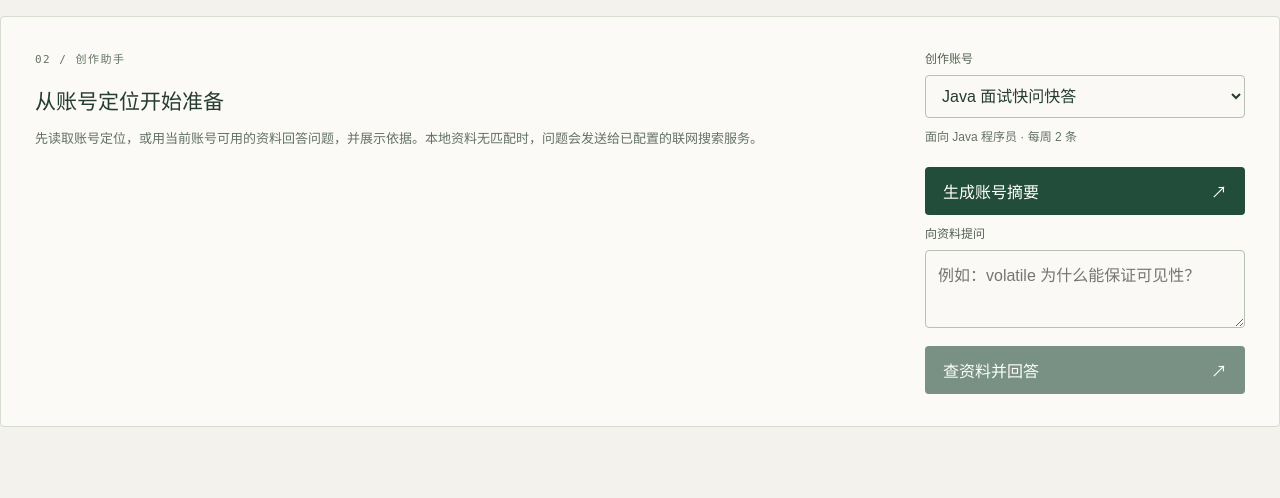
Test: creator chat › uses only the returned account and displays a model summary
Click the button "生成账号摘要 ↗". click: (991, 192)
box: [925, 167, 1245, 215]
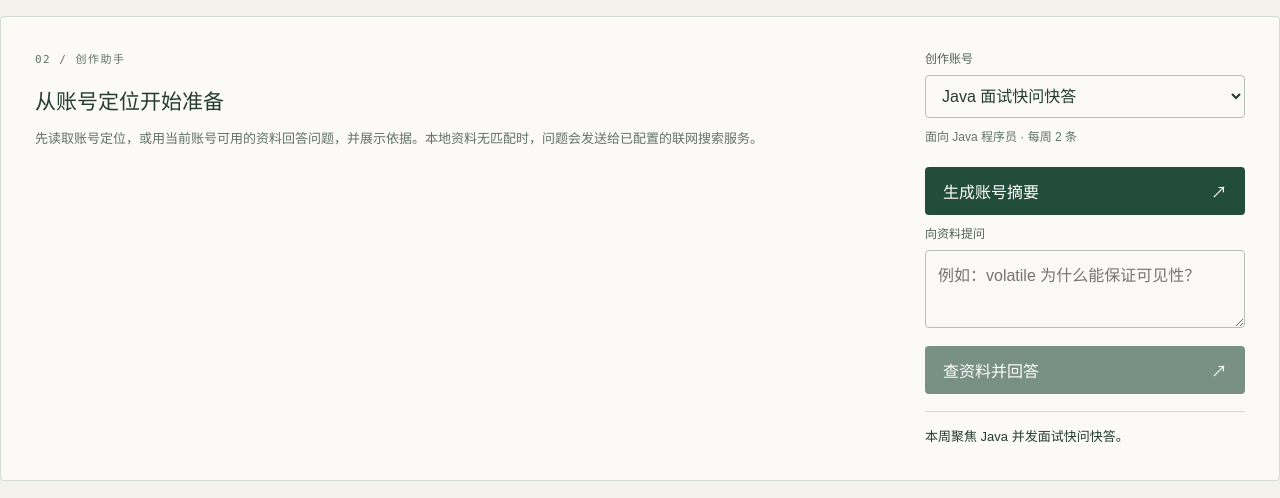
Now the message "本周聚焦 Java 并发面试快问快答。" is shown, box [925, 411, 1245, 448]
